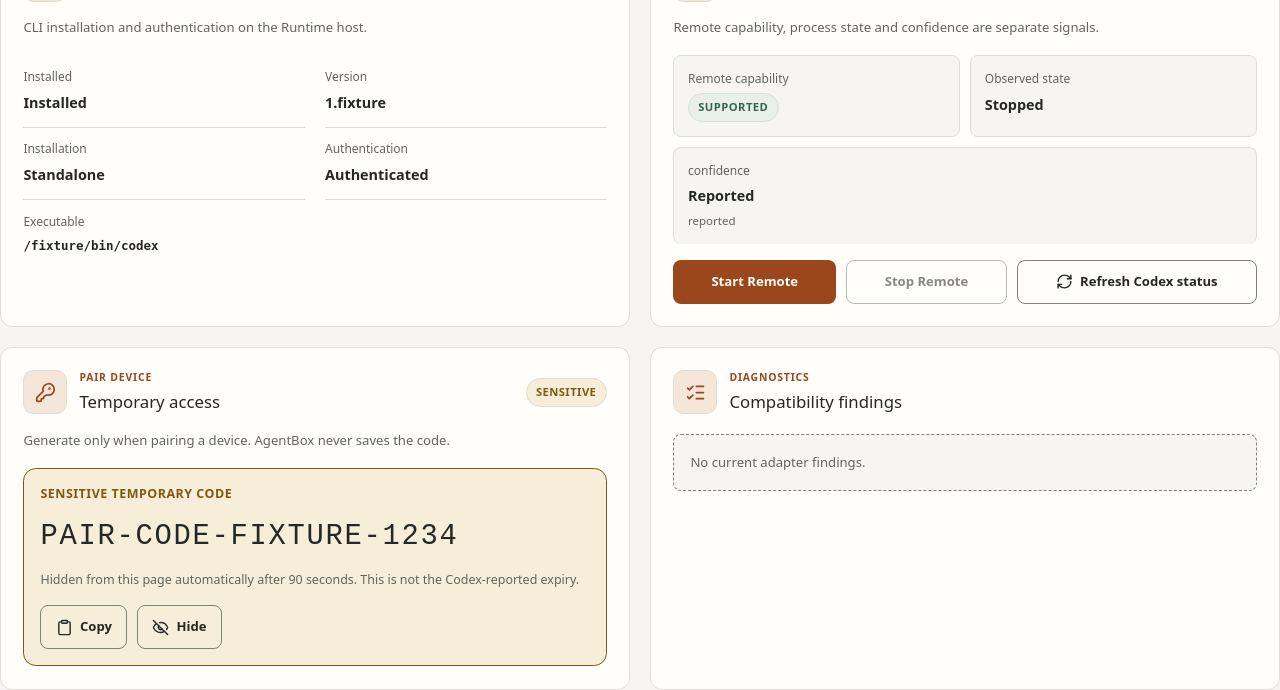
Scenario: CodexPage localized safety boundary › reports clipboard failure without exposing the thrown error
(page scrolled)
Click the button "Copy" at {"x": 84, "y": 627}, box [40,605,127,649]
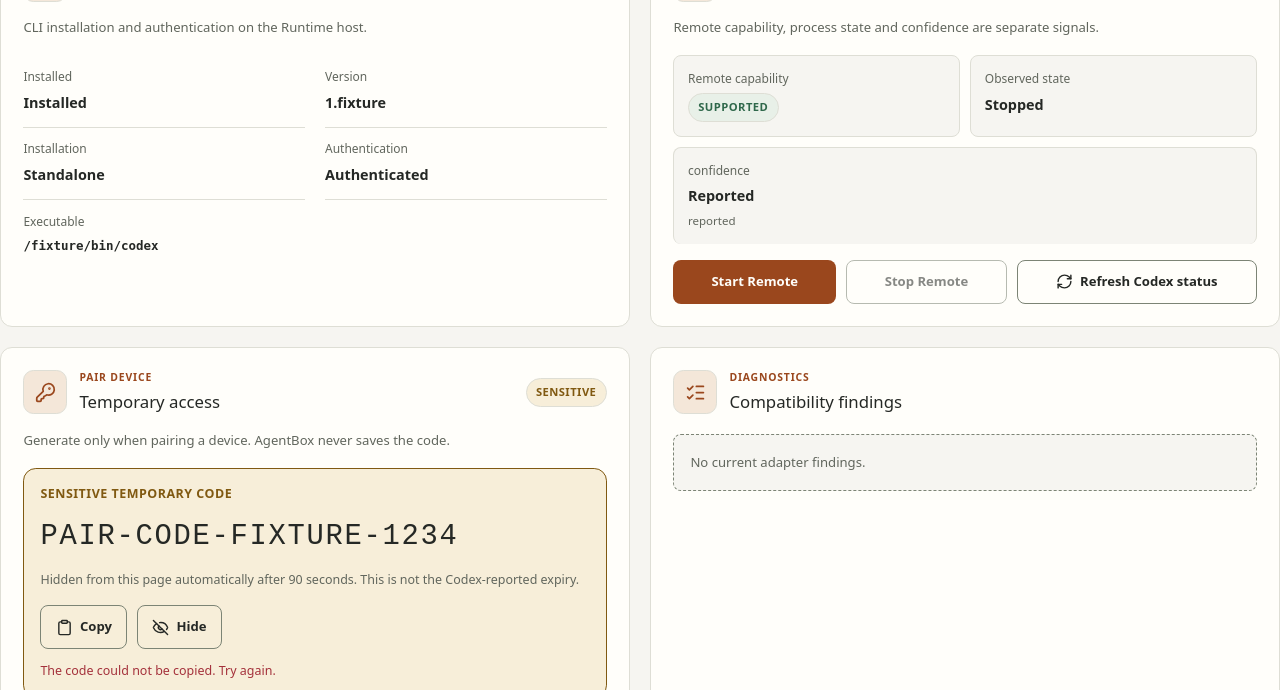
Check: the text "The code could not be copied. Try again." is shown, box [40,662,276,679]
